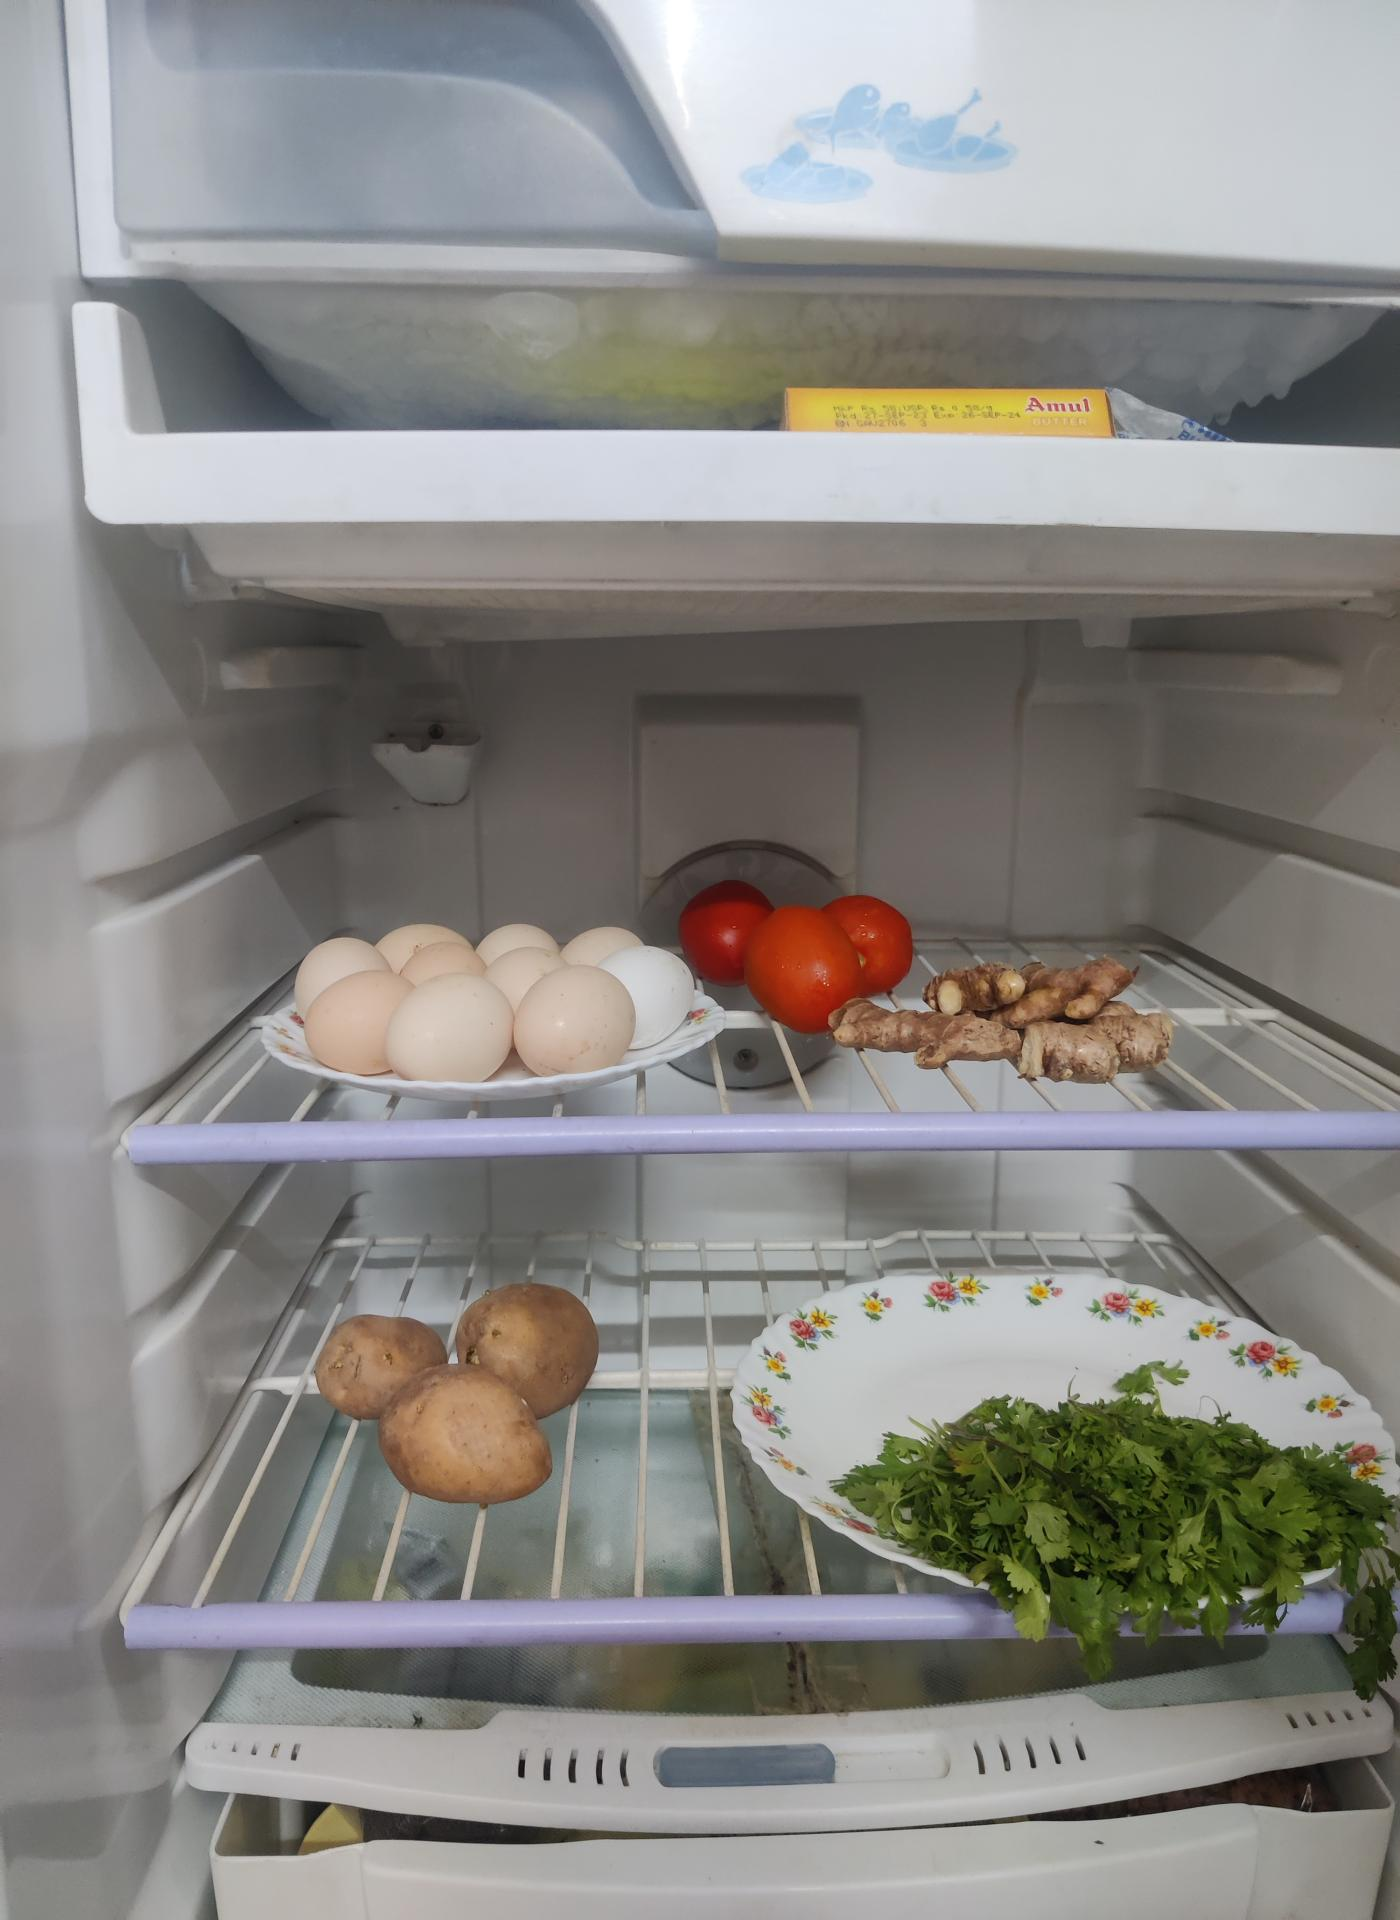coriander: (836, 1388, 1391, 1647)
egg: (289, 906, 683, 1075)
ginger: (824, 947, 1164, 1069)
potato: (316, 1278, 604, 1501)
tomato: (684, 877, 920, 1021)
